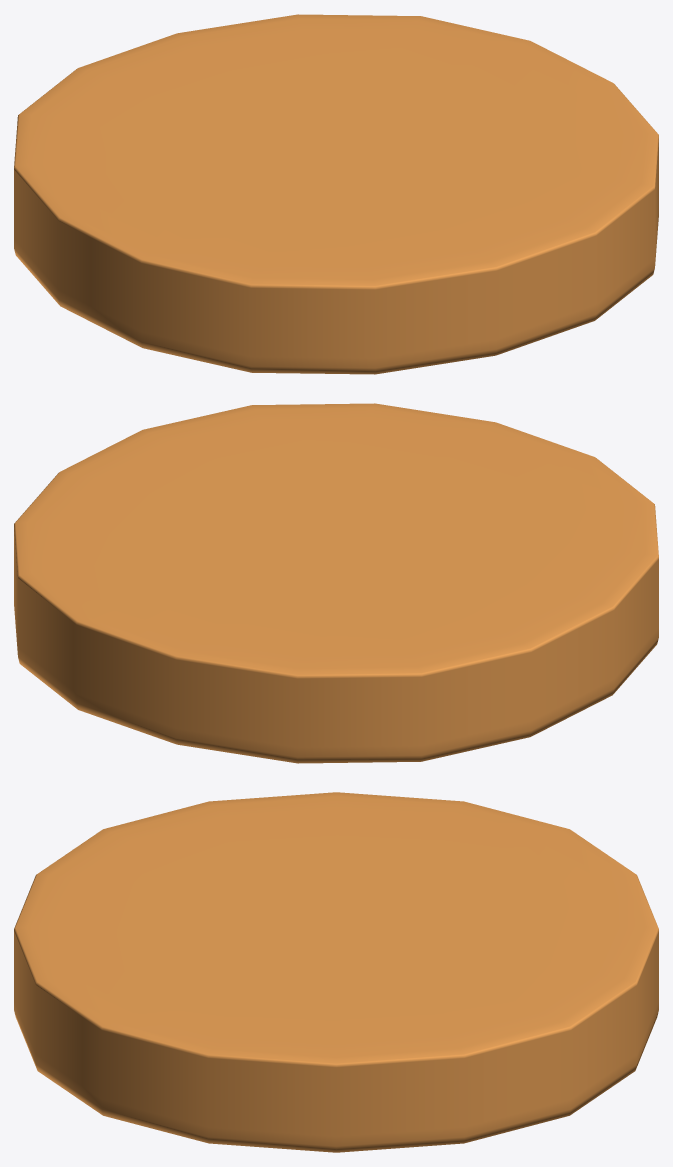
The model's file is PanAbajo.glb.
The picture shows the model from 3 angles, top to bottom: view 1: azimuth 30°, elevation 25°; view 2: azimuth 150°, elevation 25°; view 3: azimuth 270°, elevation 25°; orthographic projection.
Parts seen in each view (by area): view 1: Pan abajo; view 2: Pan abajo; view 3: Pan abajo.
Boxes of the visible parts, x1=… form: Pan abajo: x1=14, y1=14, x2=658, y2=374; Pan abajo: x1=14, y1=403, x2=658, y2=763; Pan abajo: x1=14, y1=792, x2=658, y2=1152.
Bounding box in the file's own units: 1.83 × 0.3174 × 1.83.
